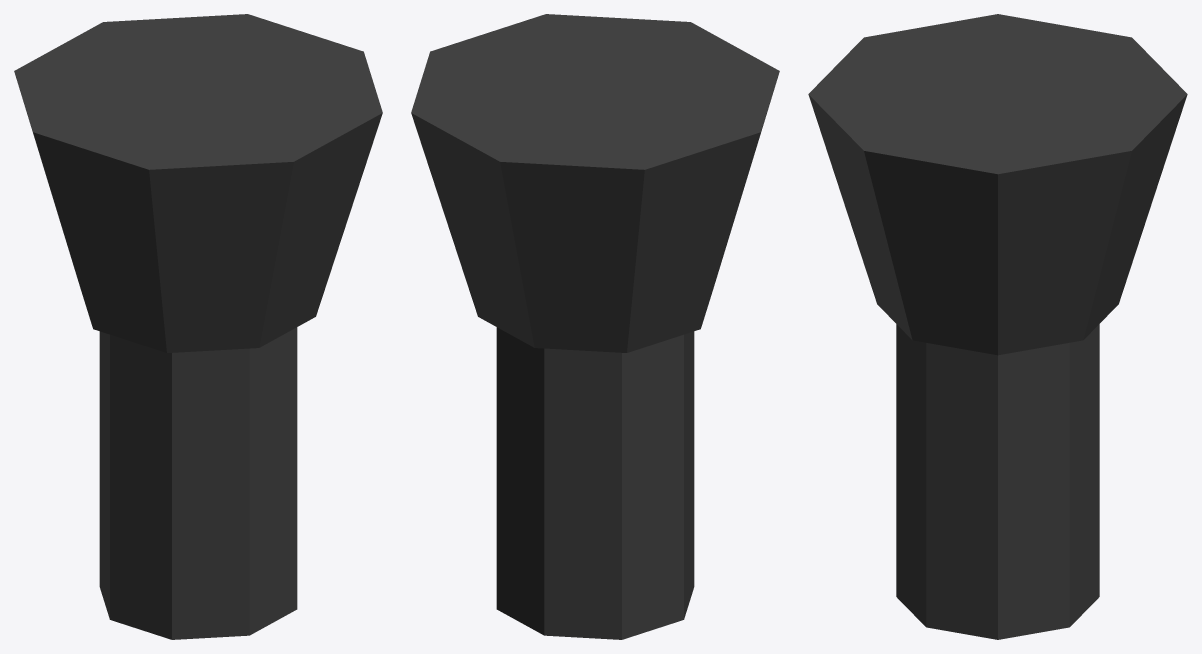
The model's file is woodstovepipe03.obj.
3 views of the same model, side by side, from view 1: azimuth 30°, elevation 25°; view 2: azimuth 150°, elevation 25°; view 3: azimuth 270°, elevation 25° (orthographic).
Parts seen in each view (by area): view 1: Cylinder; view 2: Cylinder; view 3: Cylinder.
Part boxes in pixels (x1=…): Cylinder: x1=14, y1=14, x2=382, y2=639; Cylinder: x1=411, y1=14, x2=779, y2=639; Cylinder: x1=808, y1=14, x2=1187, y2=639.
Bounding box in the file's own units: 0.3349 × 0.49 × 0.3349.
